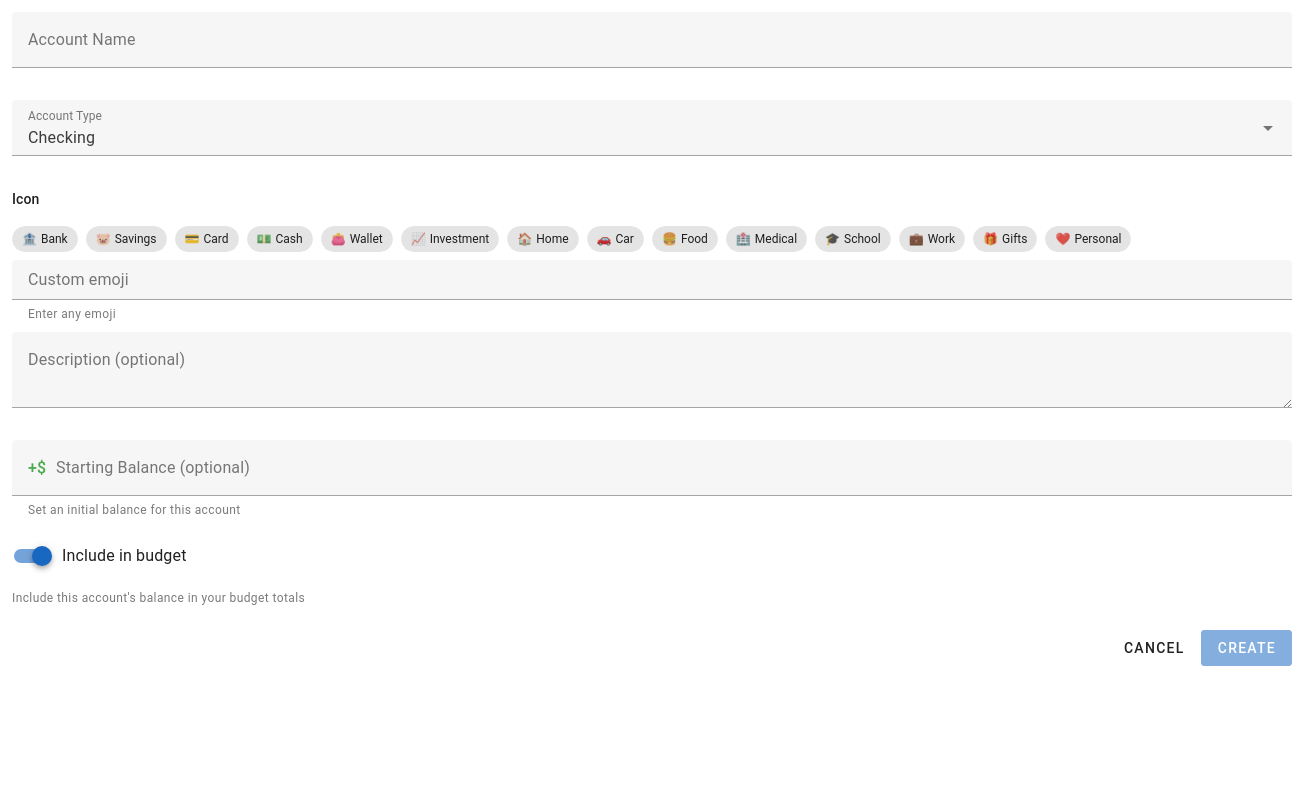
AccountForm › form validation › enables submit when name is provided
The width and height of the screenshot is (1304, 812).
Type "New Account" into the field labelled "Account Name" at [652, 40], box [12,12,1292,68]
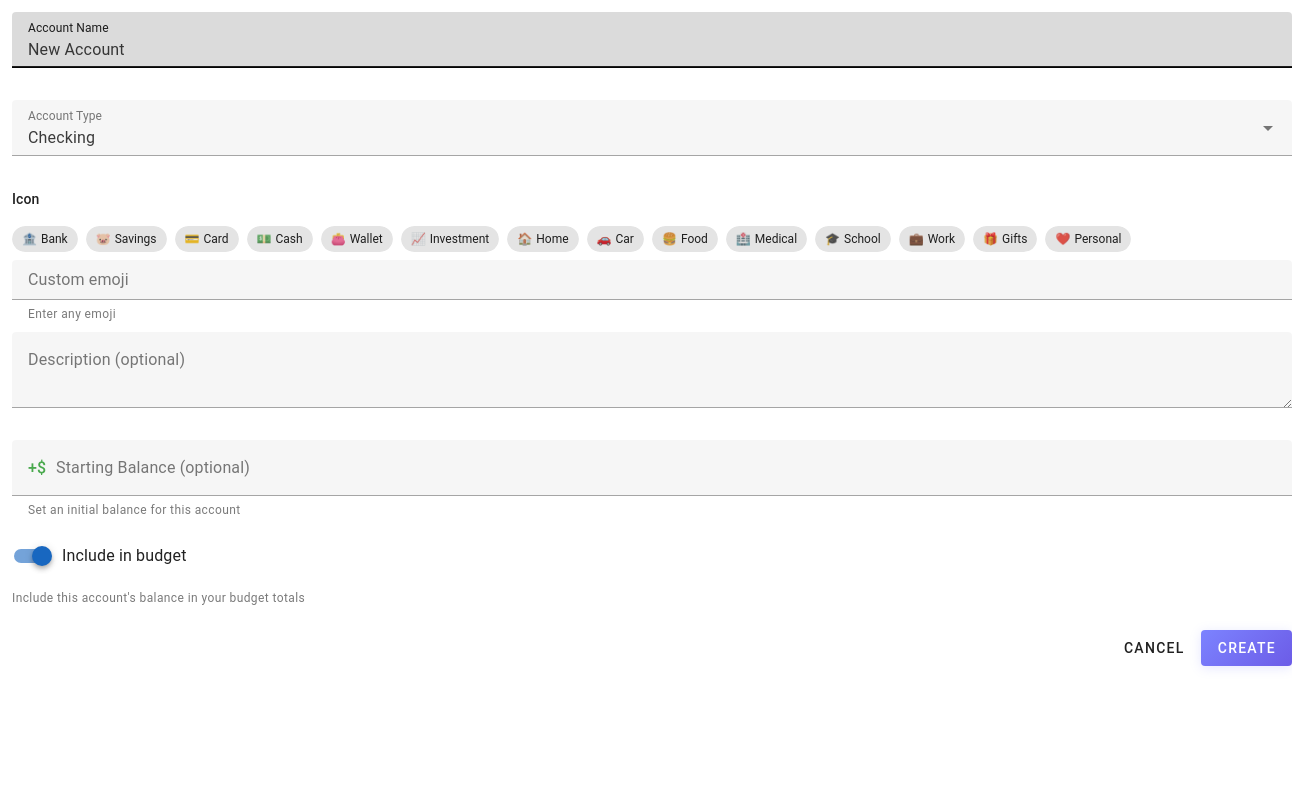
Expected: the button "Create" is enabled, [1200,630,1292,666]
